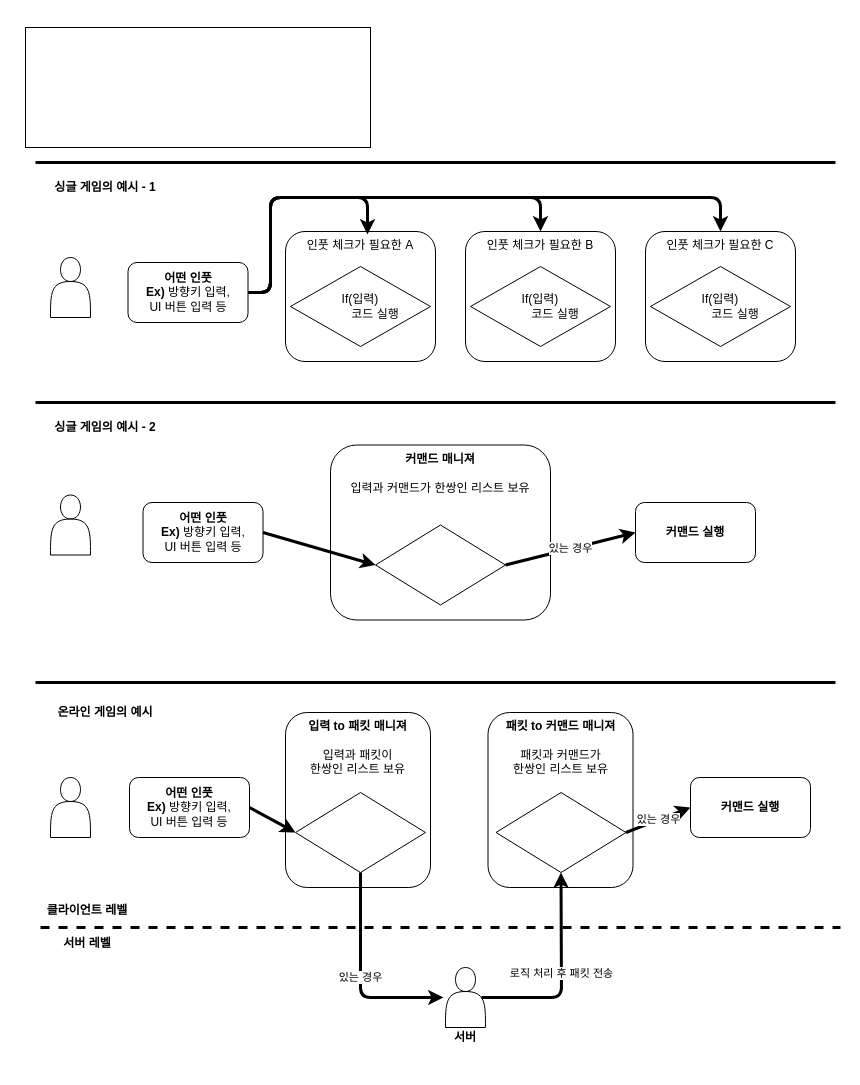
The diagram is 860 pixels wide and 1085 high, and some of its shapes have lost their labels. The centre of each missing label's shape, as x and y in pixels:
"Unity Command System 유니티에서 인풋과 기능을 구현하는 경우 예시 입니다." belongs at point (197, 87).
"입력에 일치한 커맨드가 있는지" belongs at point (440, 564).
"입력에 일치한 패킷이 있는지" belongs at point (360, 832).
"패킷에 일치한 커맨드가 있는지" belongs at point (560, 832).
